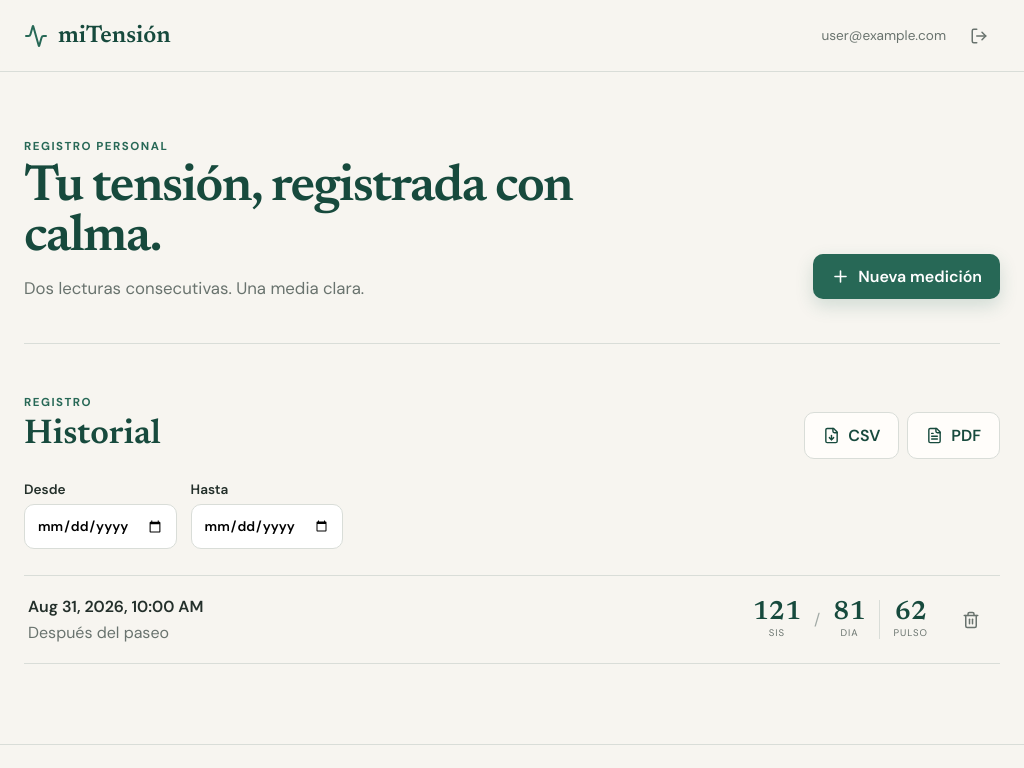
Test: web workflow › cancel does not persist anything
Step 1. Click the button "Nueva medición" → (907, 277), box top-left (813, 254), bottom-right (1000, 299)
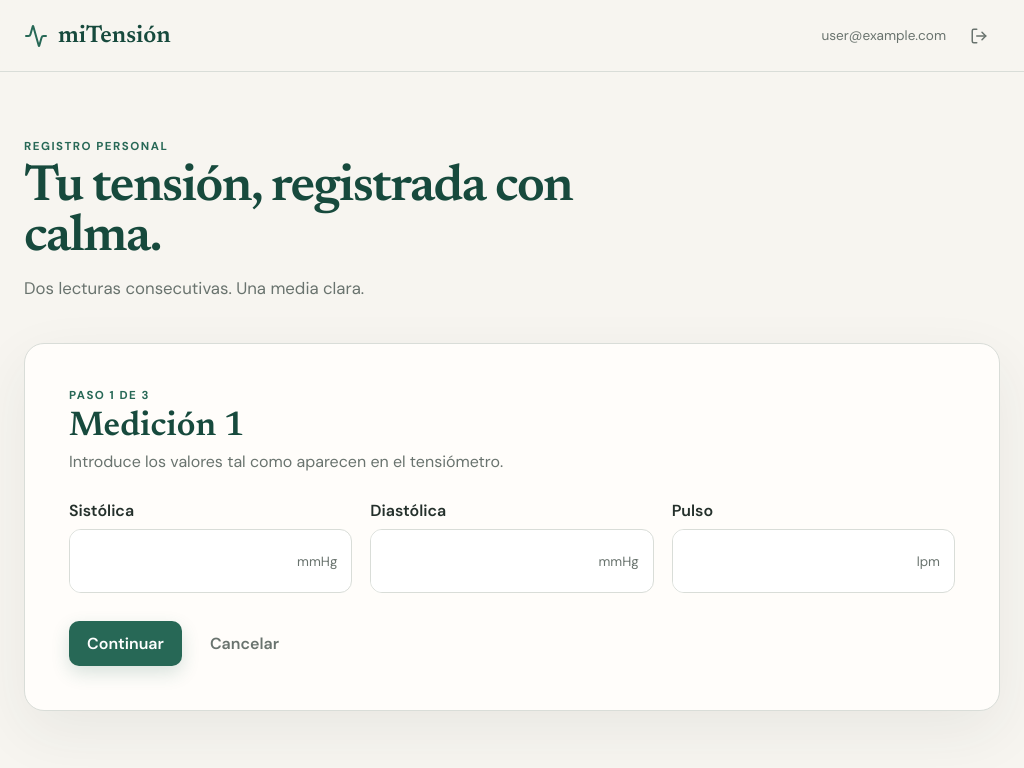
Step 2. Type "120" into the number field labelled "Sistólica mmHg" → (184, 561), box top-left (70, 530), bottom-right (297, 592)
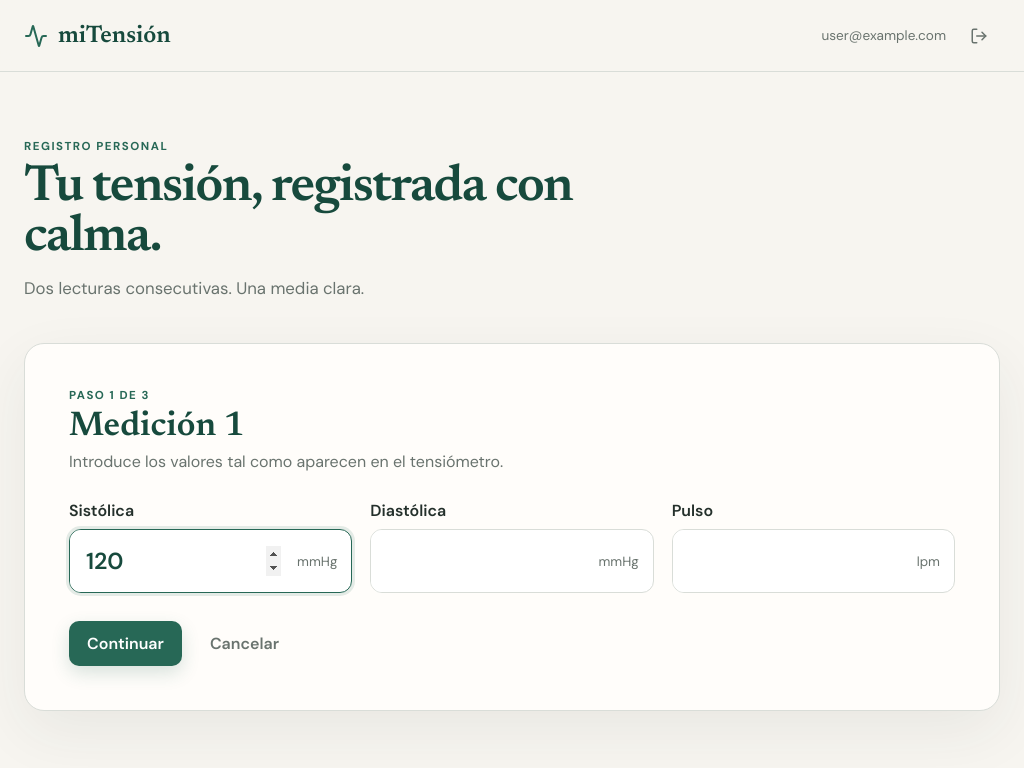
Step 3. Type "80" into the number field labelled "Diastólica mmHg" → (485, 561), box top-left (371, 530), bottom-right (598, 592)
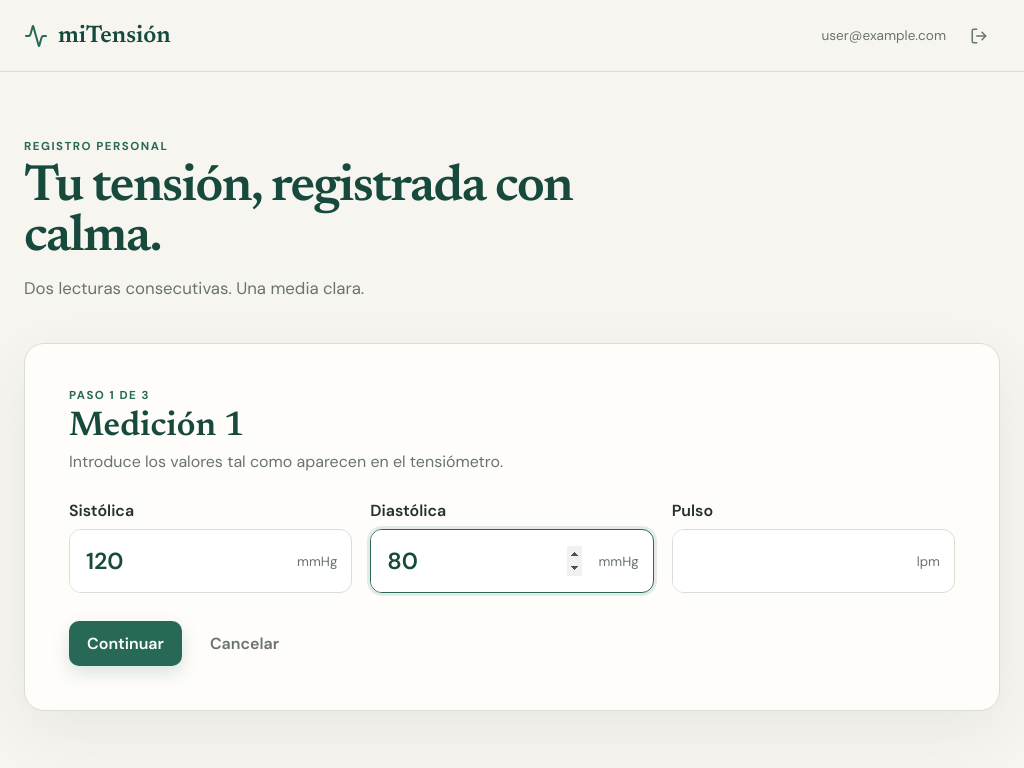
Step 4. Type "60" into the number field labelled "Pulso lpm" → (795, 561), box top-left (673, 530), bottom-right (917, 592)
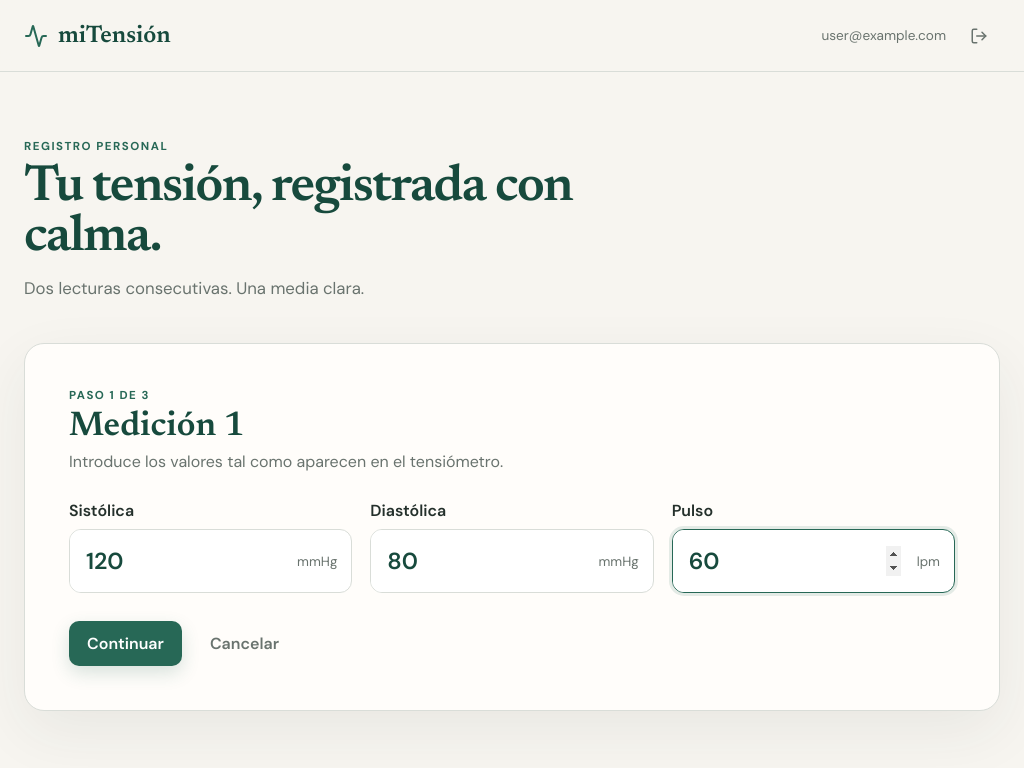
Step 5. Click the button "Continuar" → (125, 644), box top-left (69, 621), bottom-right (182, 666)
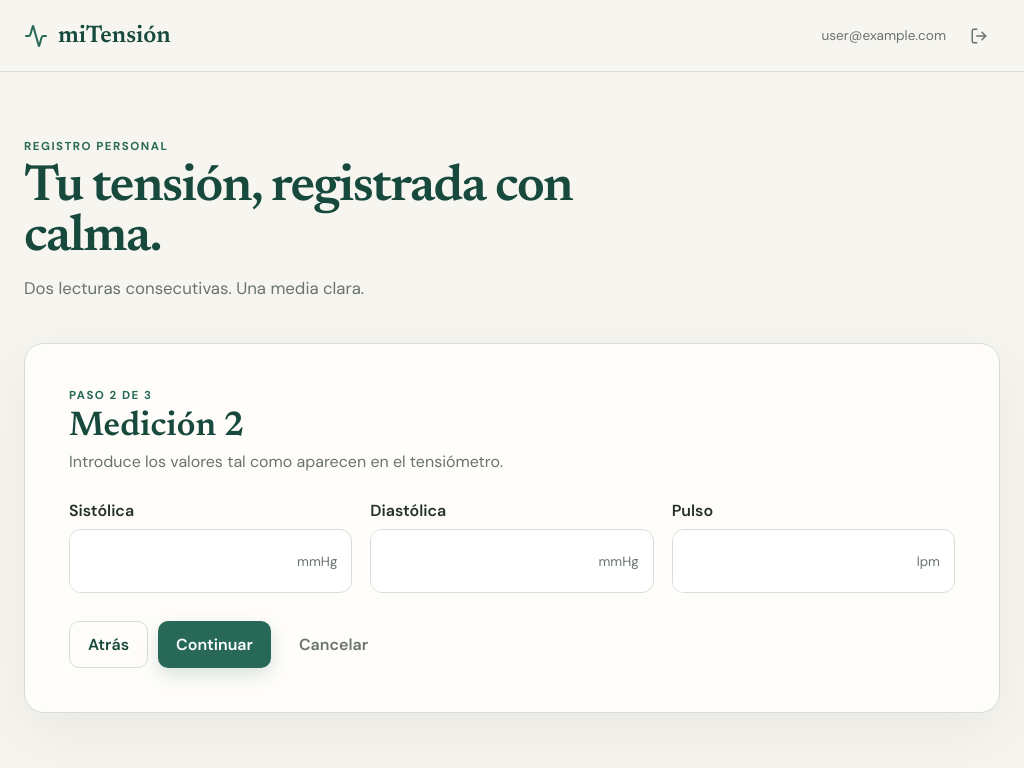
Step 6. Click the button "Cancelar" → (334, 645), box top-left (281, 621), bottom-right (386, 668)
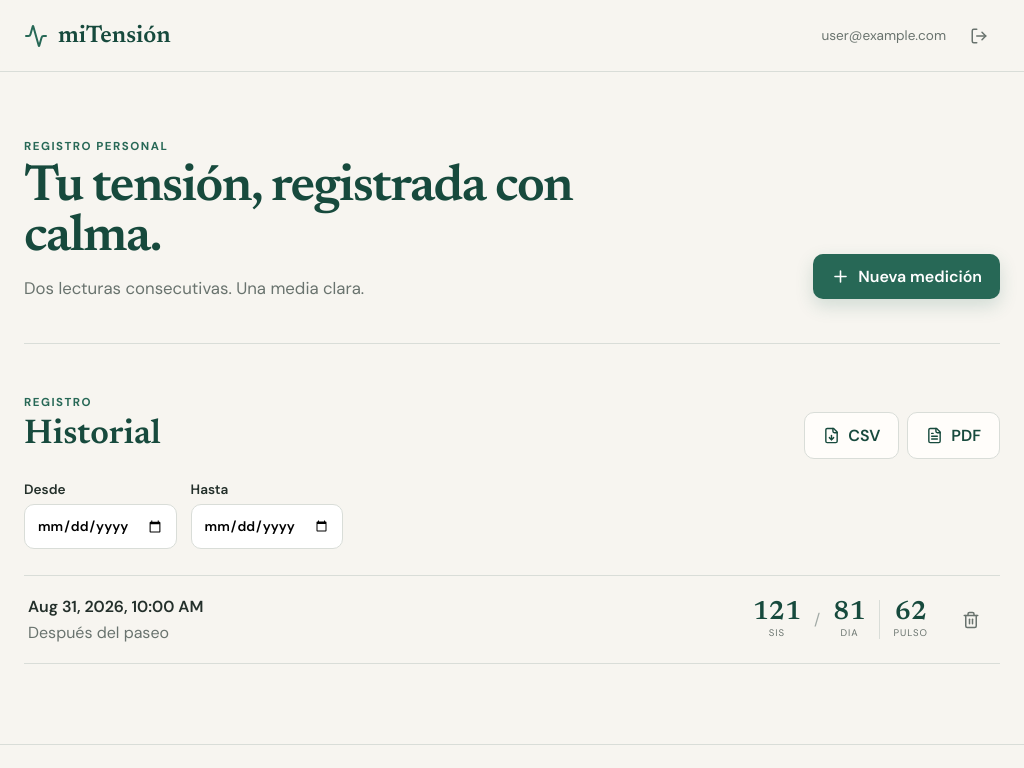
Now the button "Nueva medición" is shown, box top-left (813, 254), bottom-right (1000, 299)
